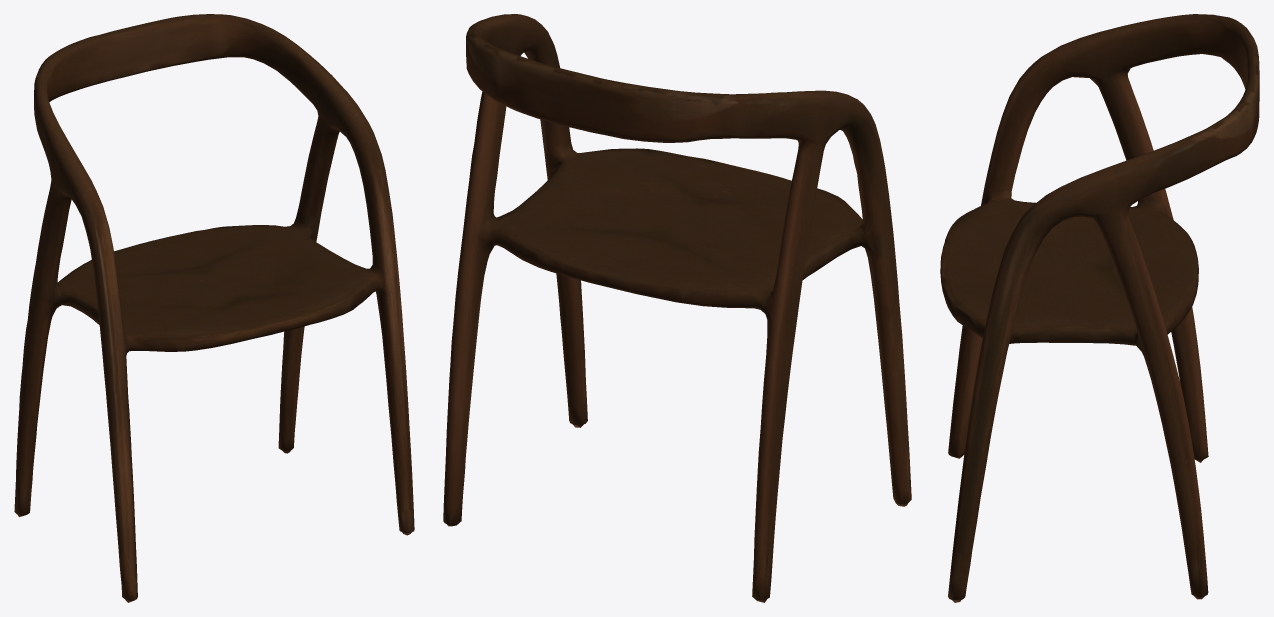
File: d23a29c1-06c1-4ca4-9f98-a2a1dce149b3.glb
3 views of the same model, side by side, from view 1: azimuth 30°, elevation 25°; view 2: azimuth 150°, elevation 25°; view 3: azimuth 270°, elevation 25° (orthographic). The views are drawn at different scales.
Parts seen in each view (by area): view 1: Mesh_0; view 2: Mesh_0; view 3: Mesh_0.
Part boxes in pixels (x1,y1,x2,y2): Mesh_0: (14,14,414,602); Mesh_0: (443,14,911,602); Mesh_0: (940,14,1259,602).
Size of the model in its own units: 1.34 by 1.91 by 1.19.
Materials: 1 (1 with a texture image).
